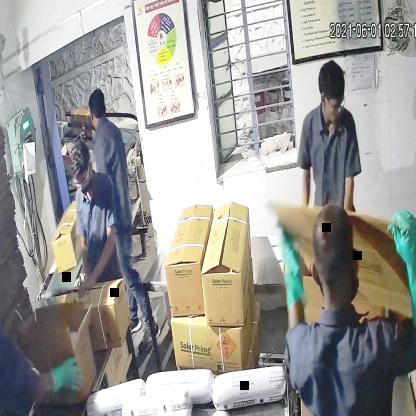goggles: (71, 168, 93, 192)
